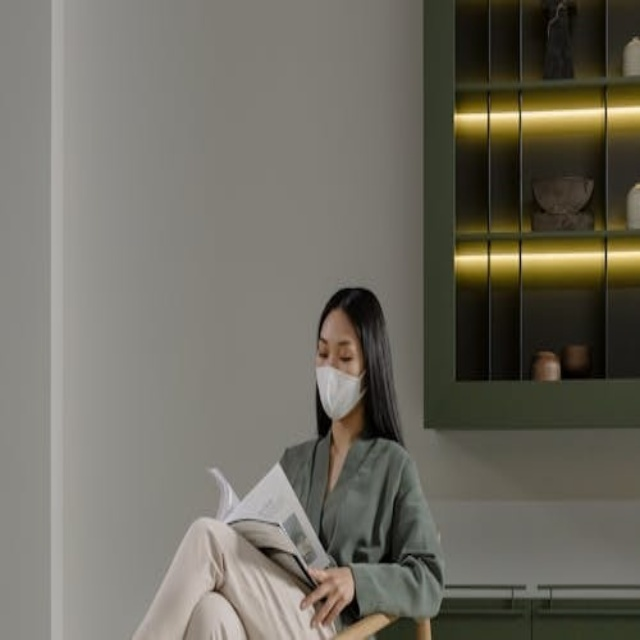Mascara: (315, 363, 368, 420)
Sin_gafas: (307, 329, 361, 371)
Sin_guantes: (298, 554, 356, 632)
